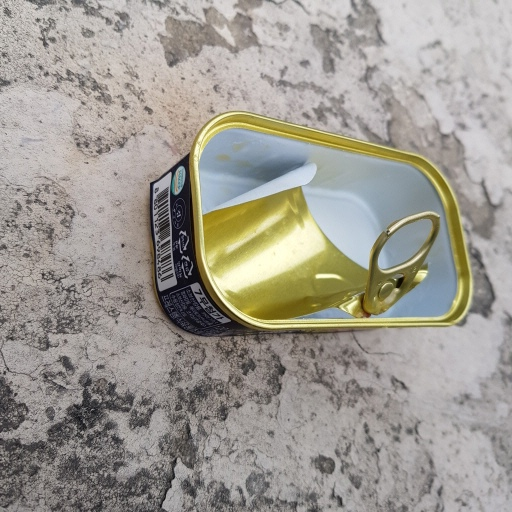Metal_2: (149, 106, 474, 342)
